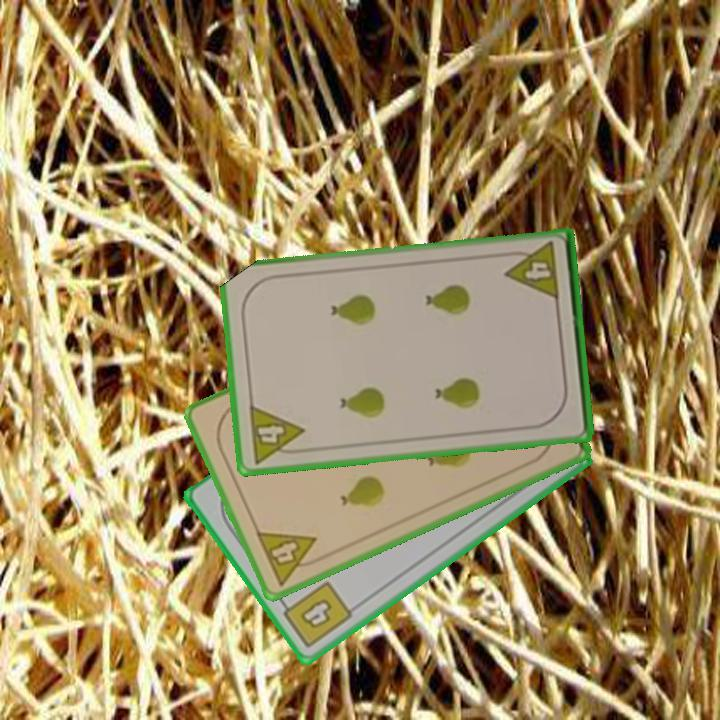4b: (275, 577, 356, 652)
4p: (252, 527, 328, 589), (245, 401, 309, 466), (501, 239, 562, 304)
